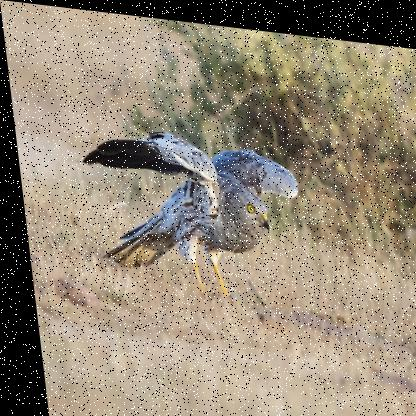Burung: (69, 117, 305, 309)
